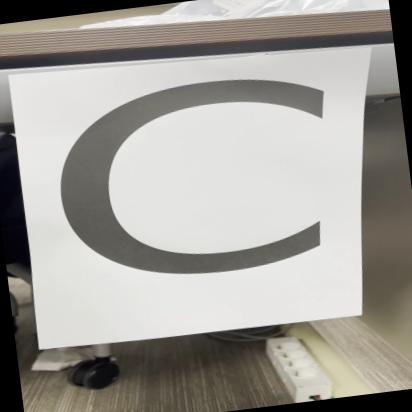seat: (5, 29, 412, 347)
